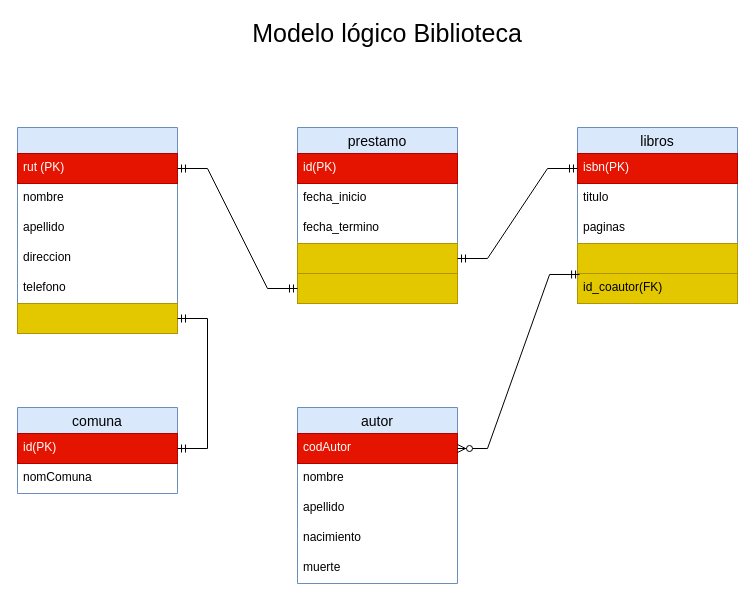
This 755x603 diagram has some shape labels left out. Here are the shapes that lost their labels. From the top down, the box of each, then its label:
(16, 126, 178, 334): socios
(296, 242, 458, 274): id_libro(FK)
(576, 242, 738, 274): id_autor(FK)
(296, 272, 458, 304): id_socio(FK)
(16, 302, 178, 334): id_comuna(FK)
